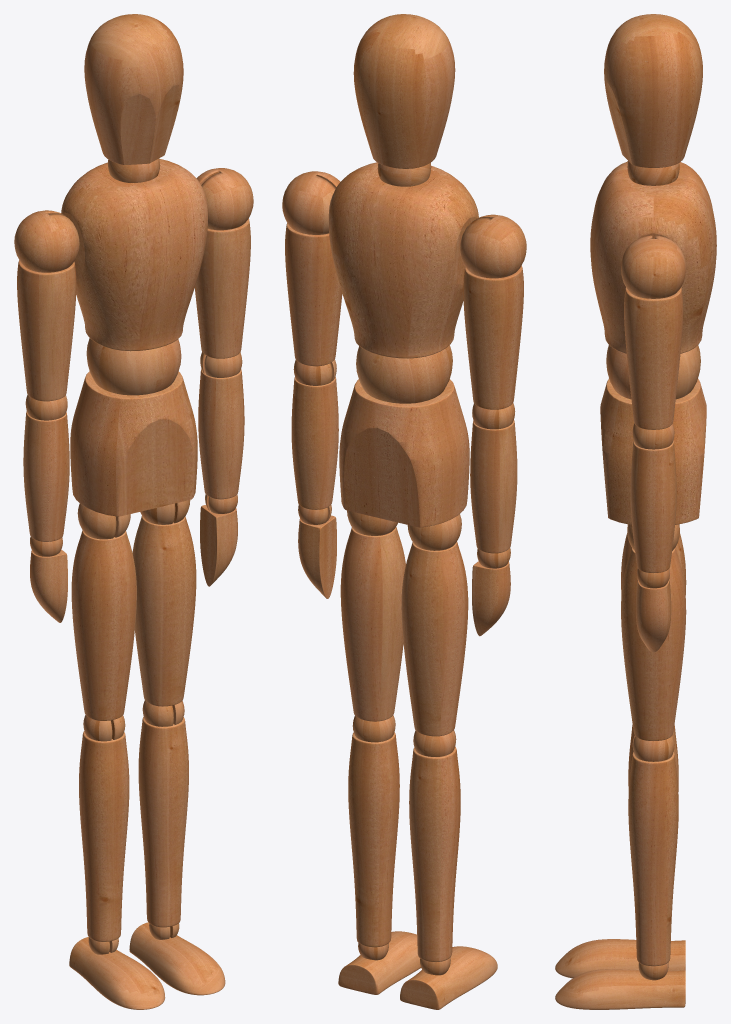
The model's file is woodman4.fbx.
3 renders of one model, left to right at view 1: azimuth 30°, elevation 25°; view 2: azimuth 150°, elevation 25°; view 3: azimuth 270°, elevation 25°, orthographic. The views are drawn at different scales.
Visible parts, largest first — view 1: torso, hip, head, leg.up.R, leg.up.L, leg.low.L, leg.low.R, arm.up.R, arm.up.L, arm.low.R, arm.low.L, waist (+13 smaller); view 2: torso, hip, head, leg.up.R, leg.up.L, leg.low.R, leg.low.L, arm.up.R, arm.up.L, arm.low.R, arm.low.L, waist (+13 smaller); view 3: torso, head, leg.low.L, hip, leg.up.L, arm.up.L, arm.low.L, foot.L, shoulder.L, foot.R, hand.L, waist (+6 smaller).
Part boxes in pixels (x1=…): torso: x1=61, y1=159, x2=207, y2=351; hip: x1=70, y1=371, x2=197, y2=516; head: x1=84, y1=14, x2=183, y2=164; leg.up.R: x1=71, y1=530, x2=136, y2=720; leg.up.L: x1=132, y1=516, x2=196, y2=706; leg.low.L: x1=138, y1=717, x2=188, y2=927; leg.low.R: x1=79, y1=731, x2=129, y2=941; arm.up.R: x1=17, y1=260, x2=76, y2=401; arm.up.L: x1=194, y1=218, x2=250, y2=358; arm.low.R: x1=23, y1=411, x2=69, y2=541; arm.low.L: x1=198, y1=369, x2=244, y2=499; waist: x1=86, y1=338, x2=181, y2=395; torso: x1=328, y1=162, x2=478, y2=358; hip: x1=339, y1=379, x2=469, y2=527; head: x1=353, y1=14, x2=455, y2=168; leg.up.R: x1=401, y1=542, x2=468, y2=736; leg.up.L: x1=340, y1=527, x2=405, y2=721; leg.low.R: x1=409, y1=746, x2=460, y2=962; leg.low.L: x1=348, y1=732, x2=399, y2=947; arm.up.R: x1=463, y1=265, x2=523, y2=409; arm.up.L: x1=285, y1=223, x2=342, y2=366; arm.low.R: x1=470, y1=420, x2=517, y2=553; arm.low.L: x1=291, y1=376, x2=338, y2=509; waist: x1=356, y1=345, x2=452, y2=403; torso: x1=590, y1=161, x2=716, y2=353; head: x1=604, y1=14, x2=702, y2=167; leg.low.L: x1=628, y1=752, x2=678, y2=966; hip: x1=600, y1=378, x2=706, y2=524; leg.up.L: x1=621, y1=547, x2=686, y2=741; arm.up.L: x1=624, y1=287, x2=683, y2=429; arm.low.L: x1=630, y1=440, x2=676, y2=573; foot.L: x1=555, y1=969, x2=685, y2=1009; shoulder.L: x1=621, y1=235, x2=686, y2=298; foot.R: x1=555, y1=939, x2=685, y2=978; hand.L: x1=636, y1=578, x2=671, y2=652; waist: x1=606, y1=345, x2=700, y2=399.
Size of the model in its own units: 44.44 by 175 by 26.62.
